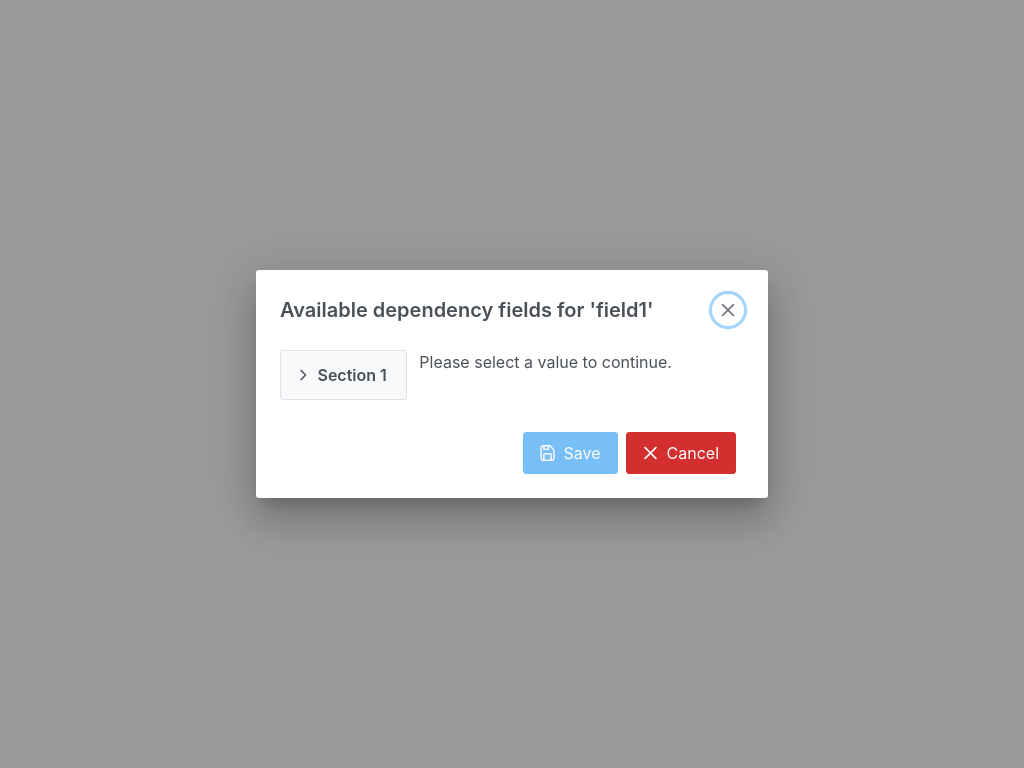
Test: FieldOptionsModal › renders modal and displays data sections
Check: the text "Available dependency fields for 'field1'" is shown, box x1=280 y1=295 x2=712 y2=325
Click the button "Section 1" at [344, 375], box x1=280 y1=350 x2=407 y2=400
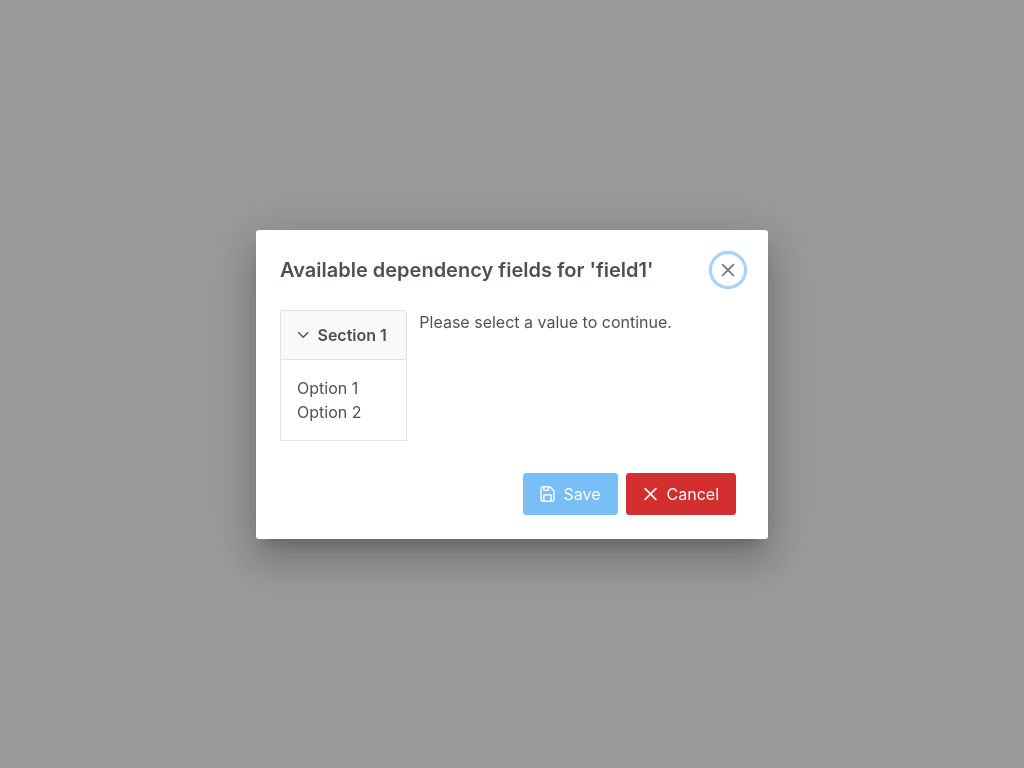
Check: the text "Please select a value to continue." is shown, box x1=419 y1=310 x2=672 y2=334
Check: the text "Option 1" is shown, box x1=297 y1=378 x2=358 y2=398
Check: the text "Option 2" is shown, box x1=297 y1=402 x2=362 y2=422
